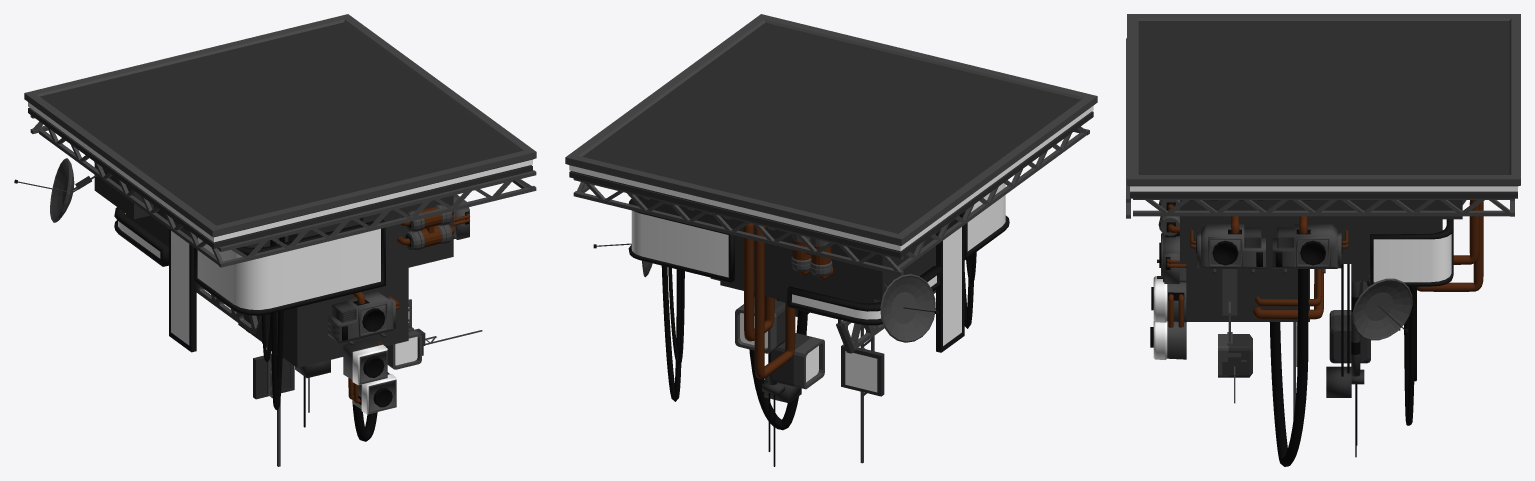
Rendered from Cyberpunk_Platform.obj.
3 renders of one model, left to right at view 1: azimuth 30°, elevation 25°; view 2: azimuth 150°, elevation 25°; view 3: azimuth 270°, elevation 25°, orthographic. The views are drawn at different scales.
Bounding box in the file's own units: 1 × 0.8411 × 0.8736.
